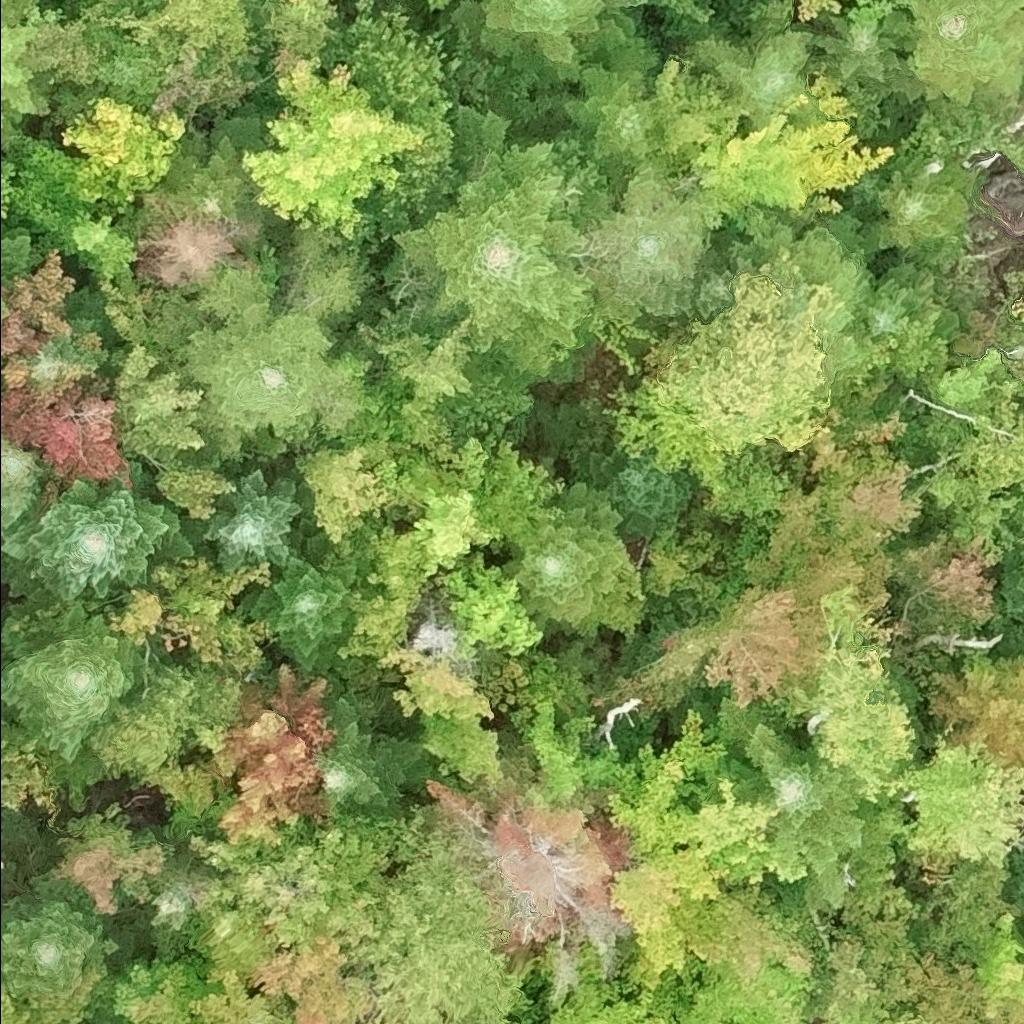crown: (384, 102, 614, 389), (601, 243, 846, 492), (164, 224, 377, 472), (713, 694, 892, 913), (240, 49, 432, 253), (423, 776, 635, 959), (350, 814, 531, 1023), (185, 819, 391, 990), (317, 0, 465, 237), (686, 75, 895, 234), (787, 583, 915, 837), (338, 305, 535, 468), (606, 707, 782, 888), (389, 420, 569, 579), (0, 460, 201, 602), (237, 481, 378, 677), (0, 596, 147, 768), (636, 583, 826, 710), (501, 477, 646, 638), (88, 634, 250, 778), (211, 661, 338, 843), (106, 343, 237, 518), (572, 165, 712, 328), (549, 36, 671, 213), (8, 127, 137, 286), (107, 553, 276, 671), (726, 204, 877, 336), (0, 870, 123, 1023), (605, 846, 730, 991), (449, 0, 637, 95), (921, 387, 1023, 560), (677, 20, 827, 134), (808, 411, 923, 556), (901, 732, 1023, 866), (317, 678, 430, 822), (0, 375, 136, 490), (883, 0, 1023, 111), (157, 102, 282, 225), (844, 153, 980, 266), (57, 96, 188, 213), (507, 919, 646, 1023), (675, 885, 813, 986), (53, 802, 166, 919), (181, 465, 304, 571), (334, 524, 429, 661), (651, 54, 746, 191), (884, 524, 998, 637), (432, 546, 547, 658), (249, 931, 380, 1023), (520, 692, 626, 804), (293, 435, 395, 551), (29, 284, 133, 391), (575, 447, 693, 541), (132, 193, 250, 286), (0, 248, 76, 386), (737, 484, 833, 590), (114, 0, 249, 74), (850, 255, 962, 343), (776, 539, 895, 618), (86, 955, 223, 1023), (376, 643, 496, 720), (805, 10, 918, 82), (0, 0, 49, 153), (692, 220, 757, 320), (416, 711, 505, 784), (86, 31, 163, 115), (145, 851, 195, 963), (549, 981, 667, 1023), (974, 912, 1023, 1005), (190, 969, 271, 1023), (0, 437, 43, 537), (0, 211, 43, 284), (0, 983, 63, 1023), (999, 543, 1023, 622), (794, 0, 842, 22), (248, 1001, 287, 1023), (604, 0, 648, 10), (0, 296, 10, 330), (0, 705, 17, 723), (0, 364, 8, 389), (0, 853, 8, 869), (893, 1020, 911, 1023), (859, 1021, 878, 1023)
